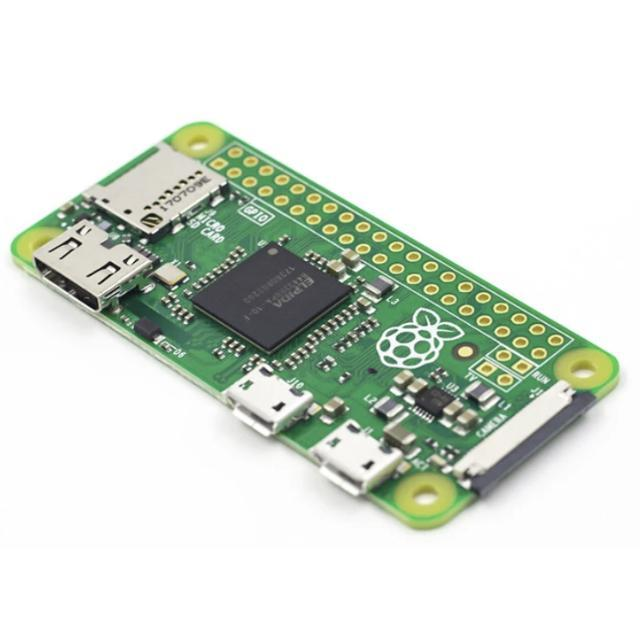Raspberry-Pi-Zero: (14, 124, 619, 528)
